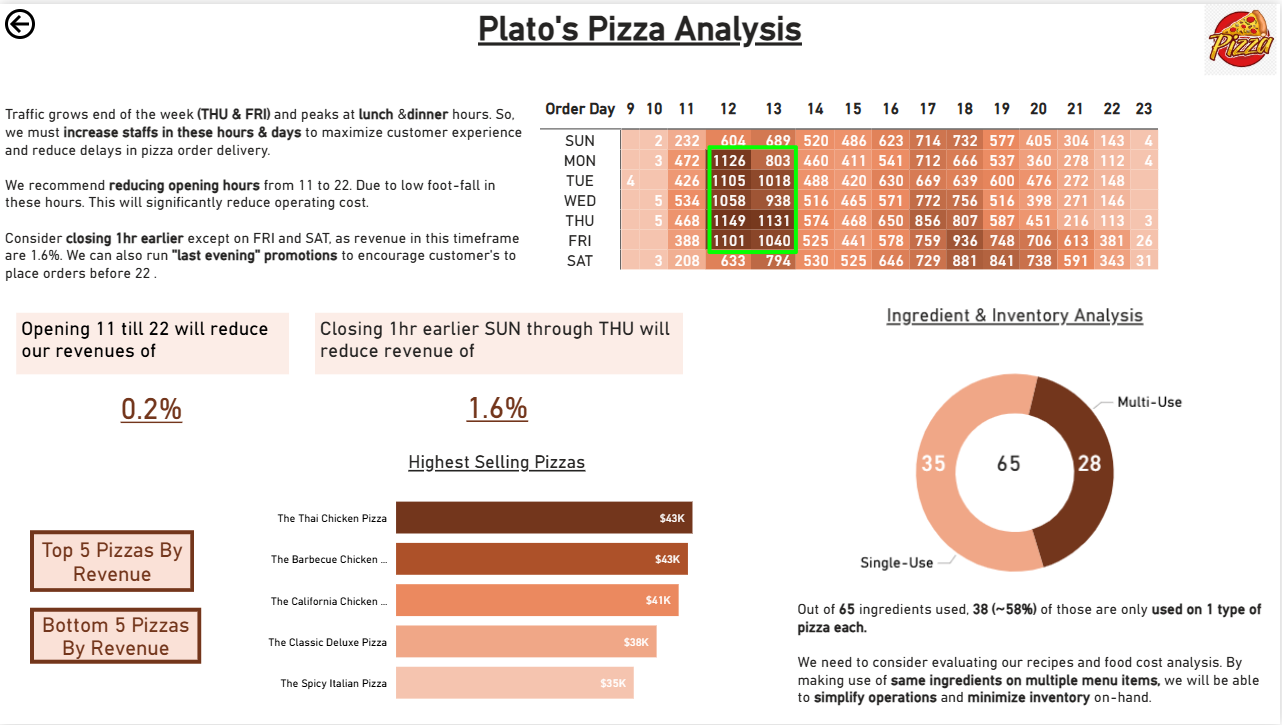

Layout of this report page (visuals, bound fields, positions):
{"tool":"powerbi","page":{"name":"Detailed","canvas":[1280,720],"ordinal":1},"visuals":[{"type":"actionButton","box":[0,0,100,40],"z":0},{"type":"textbox","box":[405,0,470,52.9],"z":1000},{"type":"textbox","box":[792.9,591.4,477.1,128.6],"z":2000},{"type":"textbox","box":[0,95.7,535.7,198.6],"z":3000},{"type":"image","box":[1201.4,0,78.6,71.4],"z":4000},{"type":"barChart","title":"Highest Selling Pizzas","fields":{"Category":["pizza_sales.pizza_name"],"Y":["pizza_sales.Total_Revenue"]},"box":[251.2,447.5,496.2,265],"z":5000},{"type":"pivotTable","fields":{"Rows":["pizza_sales.Order Day"],"Columns":["pizza_sales.Hour"],"Values":["Sum(pizza_sales.quantity)"]},"box":[535.2,88.3,744.3,201.4],"z":7000,"group":"g1"},{"type":"cardVisual","title":"Top 5 Pizzas By Revenue","fields":{"Data":["pizza_sales.% Revenue Impact of Reduced Hours"]},"box":[86.9,371.4,133.3,60.7],"z":8000},{"type":"textbox","box":[16.7,308.3,272.6,61.9],"z":9000},{"type":"textbox","box":[707.5,141.3,90,108.8],"z":9001,"group":"g1"},{"type":"textbox","box":[1049.7,430.9,49.4,46.7],"z":10000},{"type":"textbox","box":[896.1,430.9,50.8,46.7],"z":11000},{"type":"cardVisual","title":"Top 5 Pizzas By Revenue","fields":{"Data":["pizza_sales.% Weekday Revenue Impact"]},"box":[426.2,370.2,147.6,60.7],"z":12000},{"type":"textbox","box":[315.5,308.3,367.9,61.9],"z":13000},{"type":"actionButton","box":[29.8,526.2,164.3,61.9],"z":14000},{"type":"actionButton","box":[29.8,603.6,171.4,56],"z":15000},{"type":"image","box":[820,295,407.5,285],"z":16000},{"type":"group","id":"g1","title":"Group 1","box":[535.2,88.3,744.3,201.4],"z":16001}]}

Visuals, with their boxes in screenshot pixels (x1, y1, x2, y2), scaled from the page's 1280x720 canvas onto the 1282x725 screenshot:
actionButton: l=0, t=0, r=100, b=40
textbox: l=406, t=0, r=876, b=53
textbox: l=794, t=596, r=1272, b=724
textbox: l=0, t=96, r=537, b=296
image: l=1203, t=0, r=1281, b=72
"Highest Selling Pizzas" barChart: l=252, t=451, r=749, b=717
pivotTable - pizza_sales.Order Day x pizza_sales.Hour: l=536, t=89, r=1281, b=292
"Top 5 Pizzas By Revenue" cardVisual: l=87, t=374, r=221, b=435
textbox: l=17, t=310, r=290, b=373
textbox: l=709, t=142, r=799, b=252
textbox: l=1051, t=434, r=1101, b=481
textbox: l=898, t=434, r=948, b=481
"Top 5 Pizzas By Revenue" cardVisual: l=427, t=373, r=575, b=434
textbox: l=316, t=310, r=684, b=373
actionButton: l=30, t=530, r=194, b=592
actionButton: l=30, t=608, r=202, b=664
image: l=821, t=297, r=1229, b=584
"Group 1" group: l=536, t=89, r=1281, b=292
